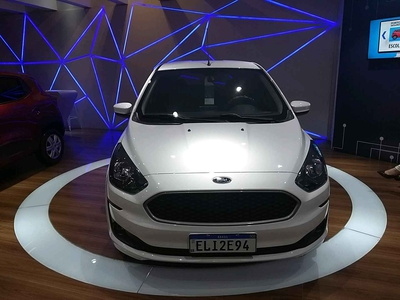Frontal Veiculo: (103, 63, 333, 265)
